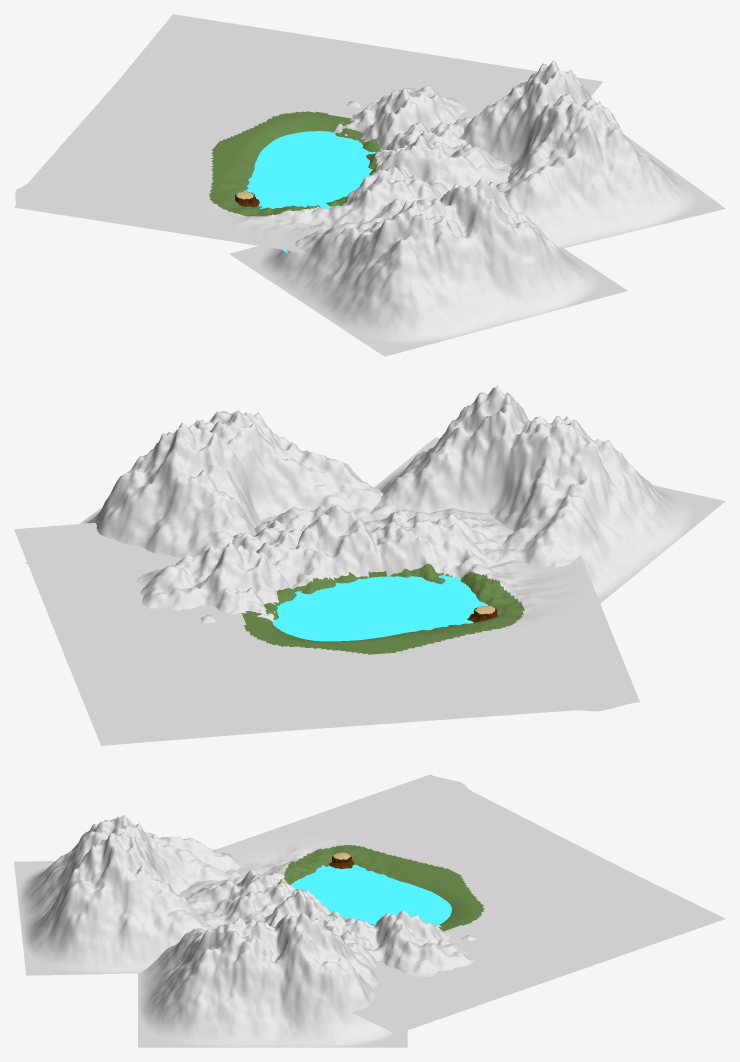
File: office_buddy_baked_textures_practice2-transformed.glb
3 renders of one model, top to bottom at view 1: azimuth 30°, elevation 25°; view 2: azimuth 150°, elevation 25°; view 3: azimuth 270°, elevation 25°, orthographic. The views are drawn at different scales.
Visible parts, largest first — view 1: Mountains, Lake; view 2: Mountains, Lake; view 3: Mountains, Lake.
Boxes of the visible parts, <box> form: Mountains: <box>14,14,725,356</box>; Lake: <box>244,131,375,253</box>; Mountains: <box>14,385,725,745</box>; Lake: <box>272,575,487,641</box>; Mountains: <box>14,774,725,1047</box>; Lake: <box>291,864,471,925</box>.
Bounding box in the file's own units: 4.56 × 1.03 × 5.28.
4 materials, 4 textured.
